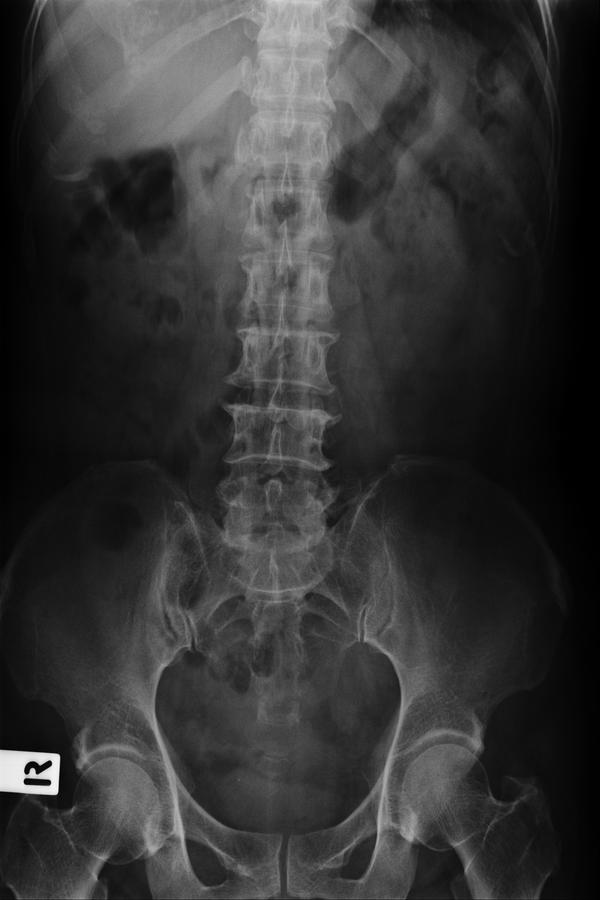lumbar scoliosis: (215, 197, 346, 574)
